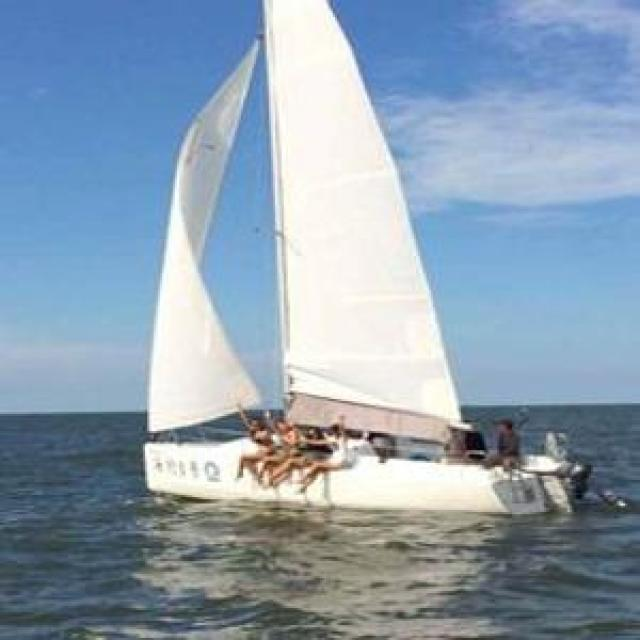sailboat: (132, 7, 600, 526)
